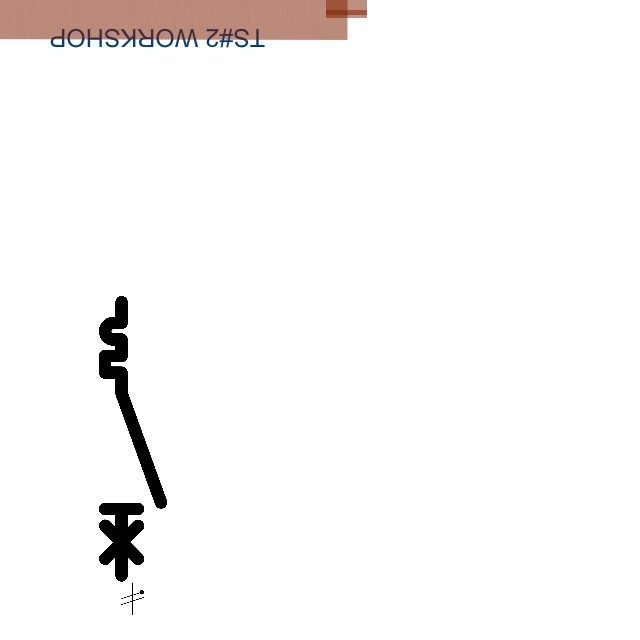interruptor_termomagnetico: (98, 295, 168, 582)
